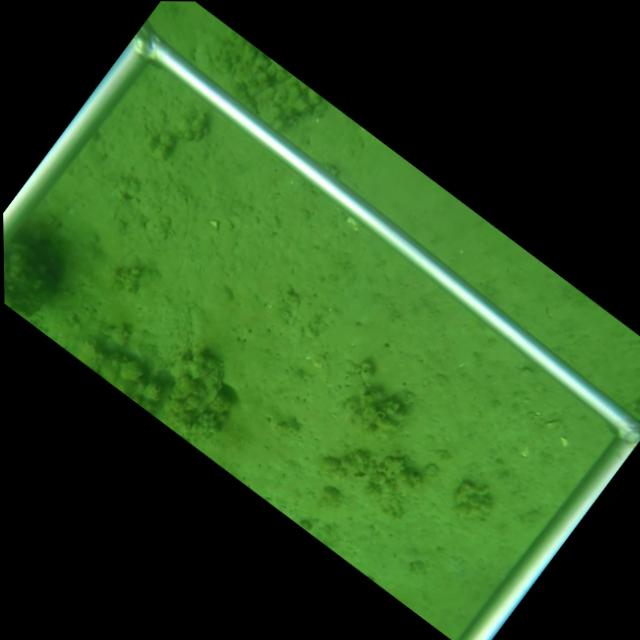Oyster-Closed: (165, 348, 224, 427)
